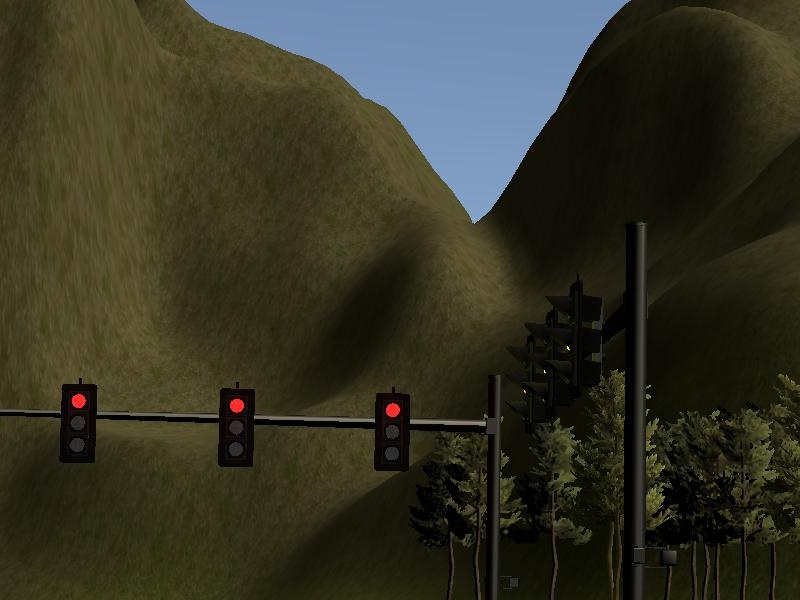RED: (58, 382, 95, 460), (216, 388, 253, 466), (374, 395, 411, 473)
